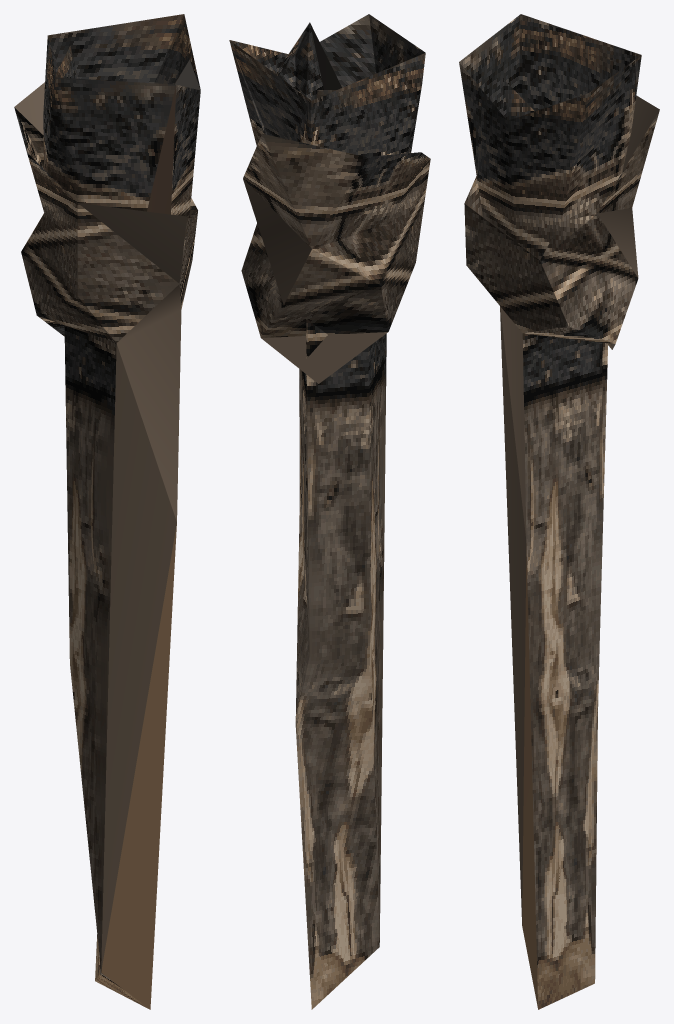
Rendered from antorcha.glb.
3 renders of one model, left to right at view 1: azimuth 30°, elevation 25°; view 2: azimuth 150°, elevation 25°; view 3: azimuth 270°, elevation 25°, orthographic.
Parts seen in each view (by area): view 1: utileria.objeto.antorcha; view 2: utileria.objeto.antorcha; view 3: utileria.objeto.antorcha.
Boxes of the visible parts, x1,y1,x2,y2 form: utileria.objeto.antorcha: (14,14,200,1009); utileria.objeto.antorcha: (229,14,430,1009); utileria.objeto.antorcha: (459,14,659,1009).
Bounding box in the file's own units: 0.1245 × 0.6553 × 0.1261.
1 material, 1 textured.
